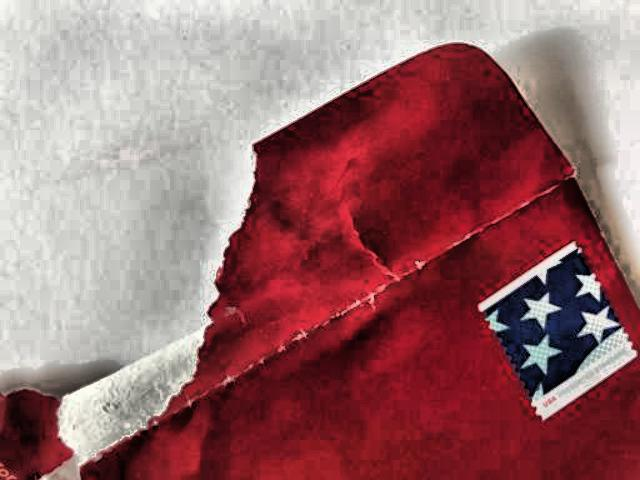Paper: (0, 36, 640, 480)
